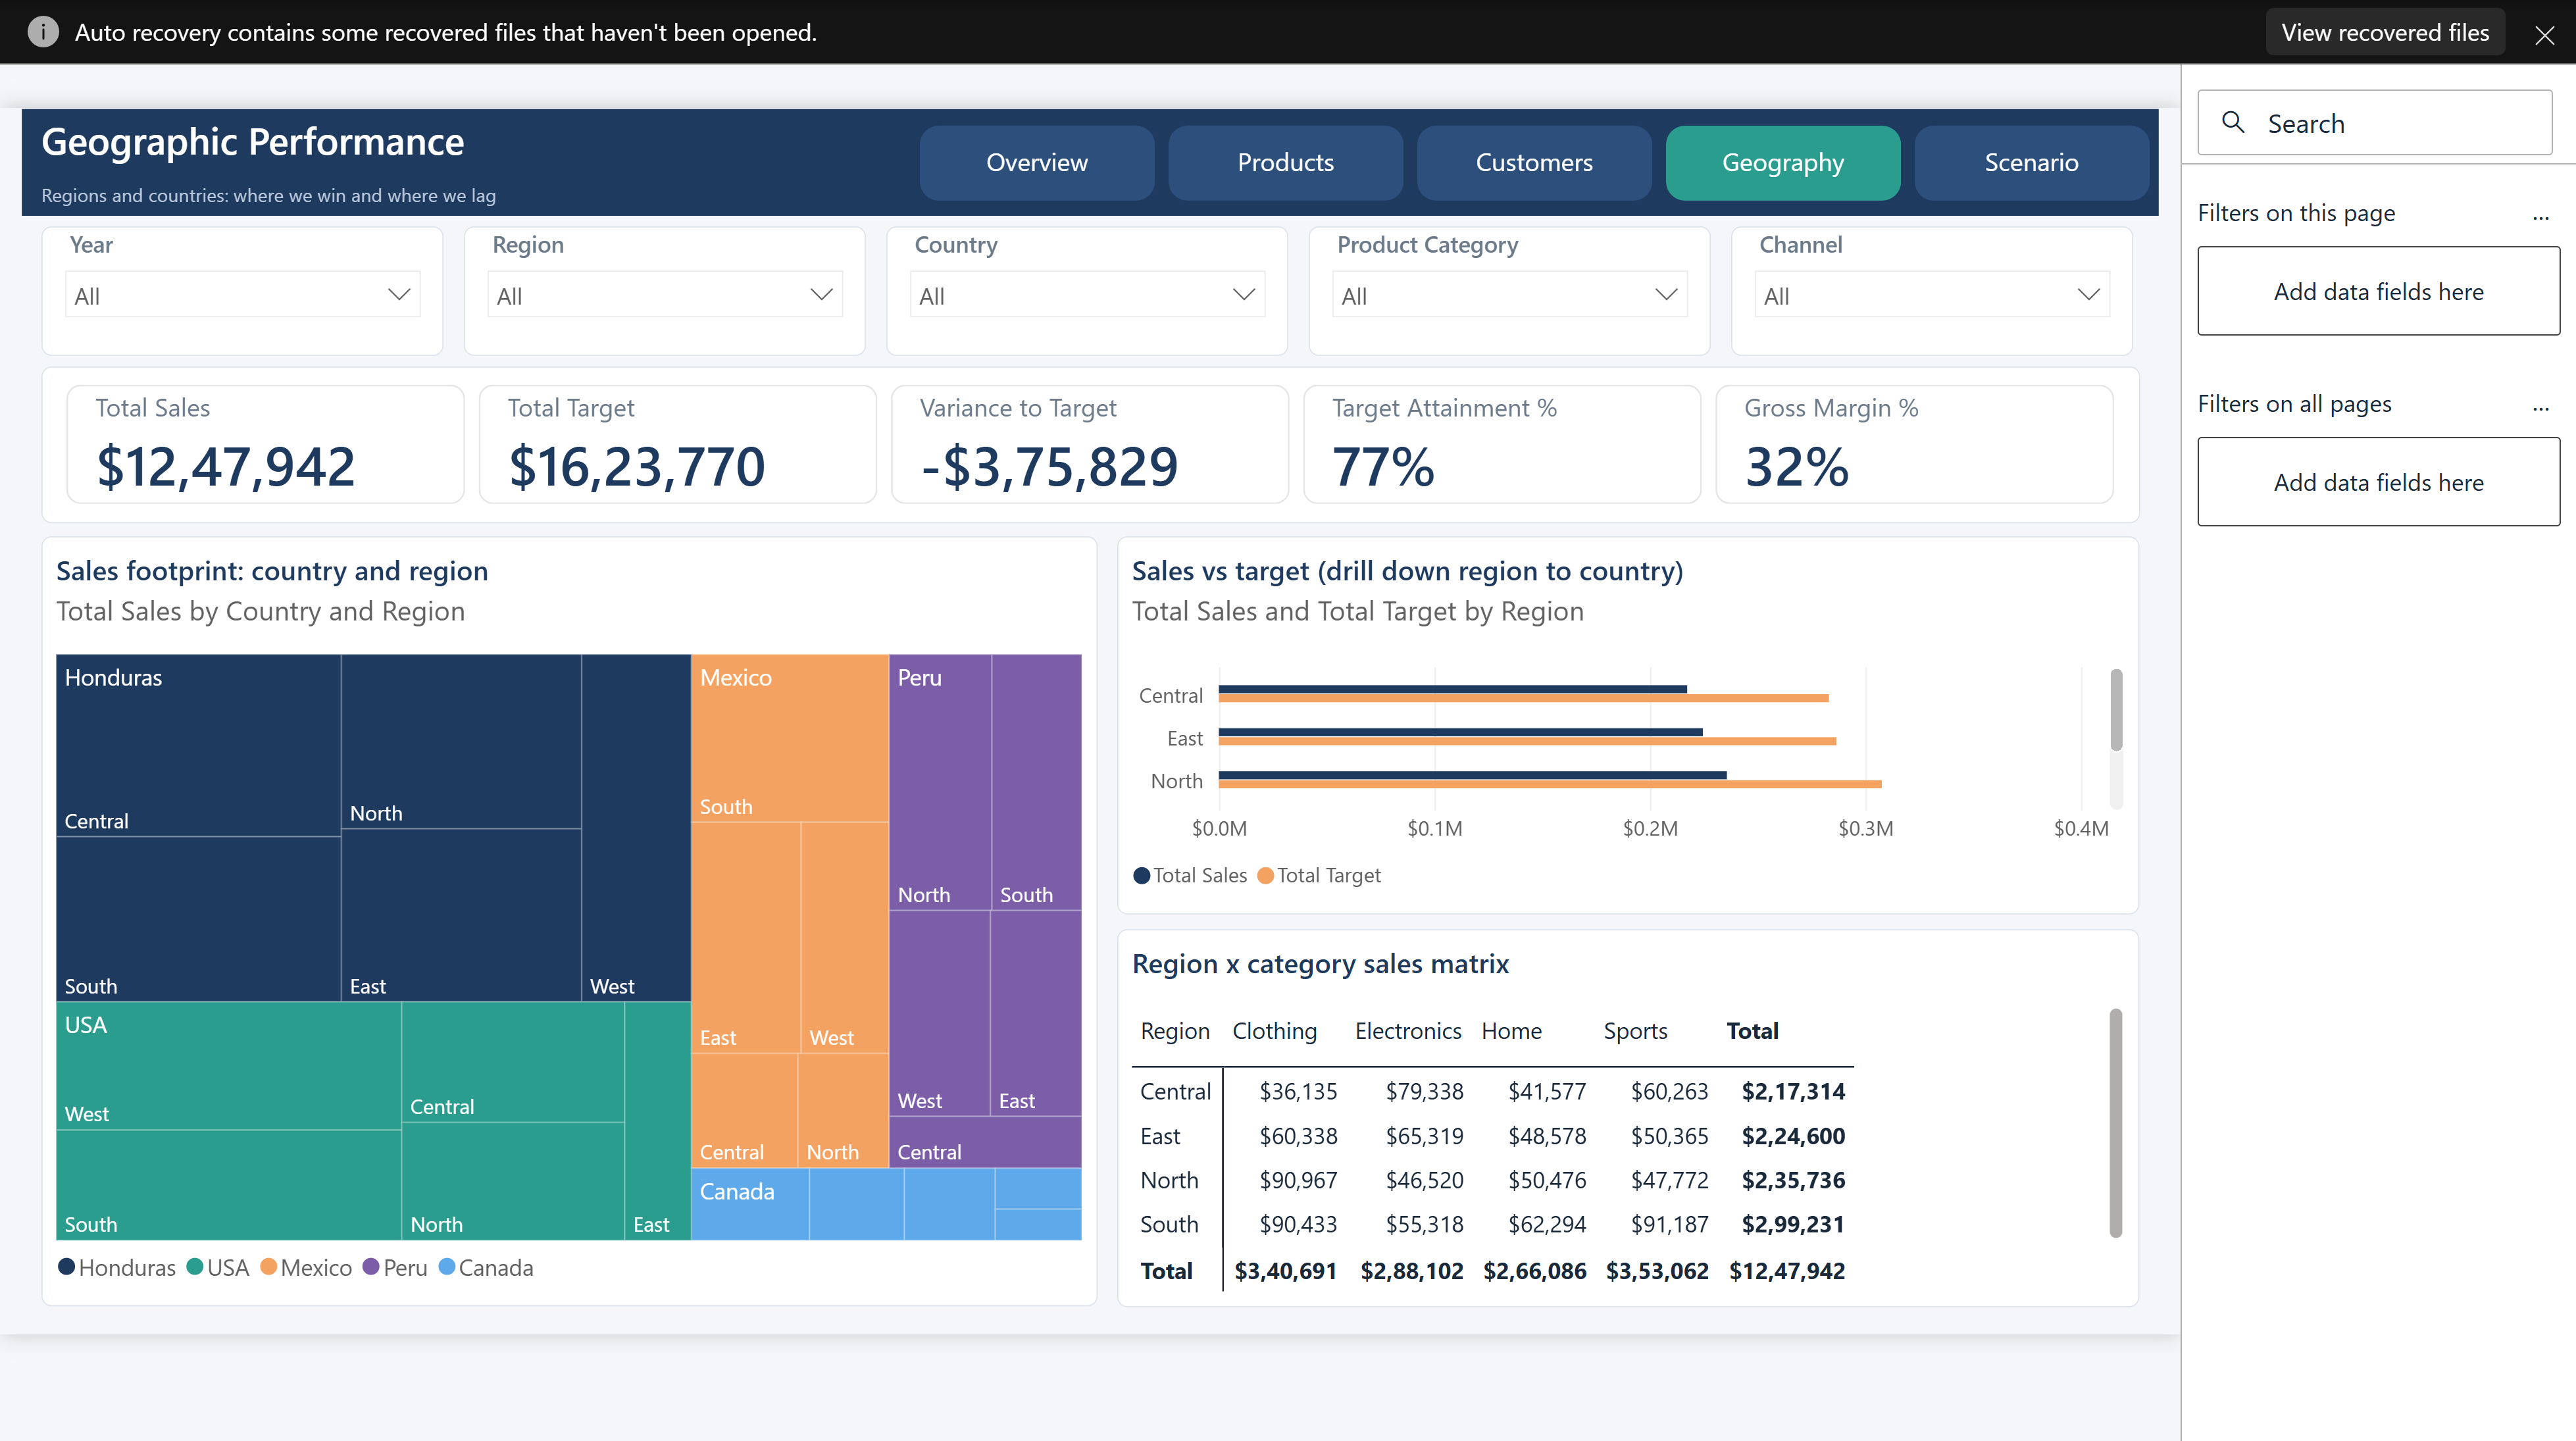

The dashboard page shown, as its layout file describes it:
{"tool":"powerbi","page":{"name":"Geographic Performance","canvas":[1280,720],"ordinal":3},"visuals":[{"type":"basicShape","box":[0,0,1280,64],"z":1010},{"type":"textbox","box":[24,4,470,36],"z":1020},{"type":"textbox","box":[24,40,470,22],"z":1030},{"type":"actionButton","box":[540,10,138,44],"z":1040},{"type":"actionButton","box":[686,10,138,44],"z":1050},{"type":"actionButton","box":[832,10,138,44],"z":1060},{"type":"actionButton","box":[978,10,138,44],"z":1070},{"type":"actionButton","box":[1124,10,138,44],"z":1080},{"type":"slicer","fields":{"Values":["Date.Year"]},"box":[24,70,236,76],"z":1090},{"type":"slicer","fields":{"Values":["Sales.Region"]},"box":[272,70,236,76],"z":1100},{"type":"slicer","fields":{"Values":["Sales.Country"]},"box":[520,70,236,76],"z":1110},{"type":"slicer","fields":{"Values":["Sales.Product Category"]},"box":[768,70,236,76],"z":1120},{"type":"slicer","fields":{"Values":["Sales.Channel"]},"box":[1016,70,236,76],"z":1130},{"type":"cardVisual","fields":{"Data":["Sales.Total Sales","Sales.Total Target","Sales.Variance to Target","Sales.Target Attainment %","Sales.Gross Margin %"]},"box":[24,152,1232,92],"z":1140},{"type":"treemap","title":"Sales footprint: country and region","fields":{"Group":["Sales.Geography Hierarchy.Country"],"Details":["Sales.Geography Hierarchy.Region"],"Values":["Sales.Total Sales"]},"box":[24,252,620,452],"z":1150},{"type":"clusteredBarChart","title":"Sales vs target (drill down region to country)","fields":{"Category":["Sales.Geography Hierarchy.Region","Sales.Geography Hierarchy.Country"],"Y":["Sales.Total Sales","Sales.Total Target"]},"box":[656,252,600,222],"z":1160},{"type":"pivotTable","title":"Region x category sales matrix","fields":{"Columns":["Sales.Product Category"],"Rows":["Sales.Region"],"Values":["Sales.Total Sales"]},"box":[656,482,600,222],"z":1170}]}

Visuals, with their boxes on the page's 1280x720 design canvas (x1, y1, x2, y2). These are canvas units, not pixel positions in the 2576x1441 screenshot, which may show the page scaled, cropped or inside an application window:
basicShape: Rect(0, 0, 1280, 64)
textbox: Rect(24, 4, 494, 40)
textbox: Rect(24, 40, 494, 62)
actionButton: Rect(540, 10, 678, 54)
actionButton: Rect(686, 10, 824, 54)
actionButton: Rect(832, 10, 970, 54)
actionButton: Rect(978, 10, 1116, 54)
actionButton: Rect(1124, 10, 1262, 54)
slicer - Date.Year: Rect(24, 70, 260, 146)
slicer - Sales.Region: Rect(272, 70, 508, 146)
slicer - Sales.Country: Rect(520, 70, 756, 146)
slicer - Sales.Product Category: Rect(768, 70, 1004, 146)
slicer - Sales.Channel: Rect(1016, 70, 1252, 146)
cardVisual - Sales.Total Sales x Sales.Total Target: Rect(24, 152, 1256, 244)
"Sales footprint: country and region" treemap: Rect(24, 252, 644, 704)
"Sales vs target (drill down region to country)" clusteredBarChart: Rect(656, 252, 1256, 474)
"Region x category sales matrix" pivotTable: Rect(656, 482, 1256, 704)
